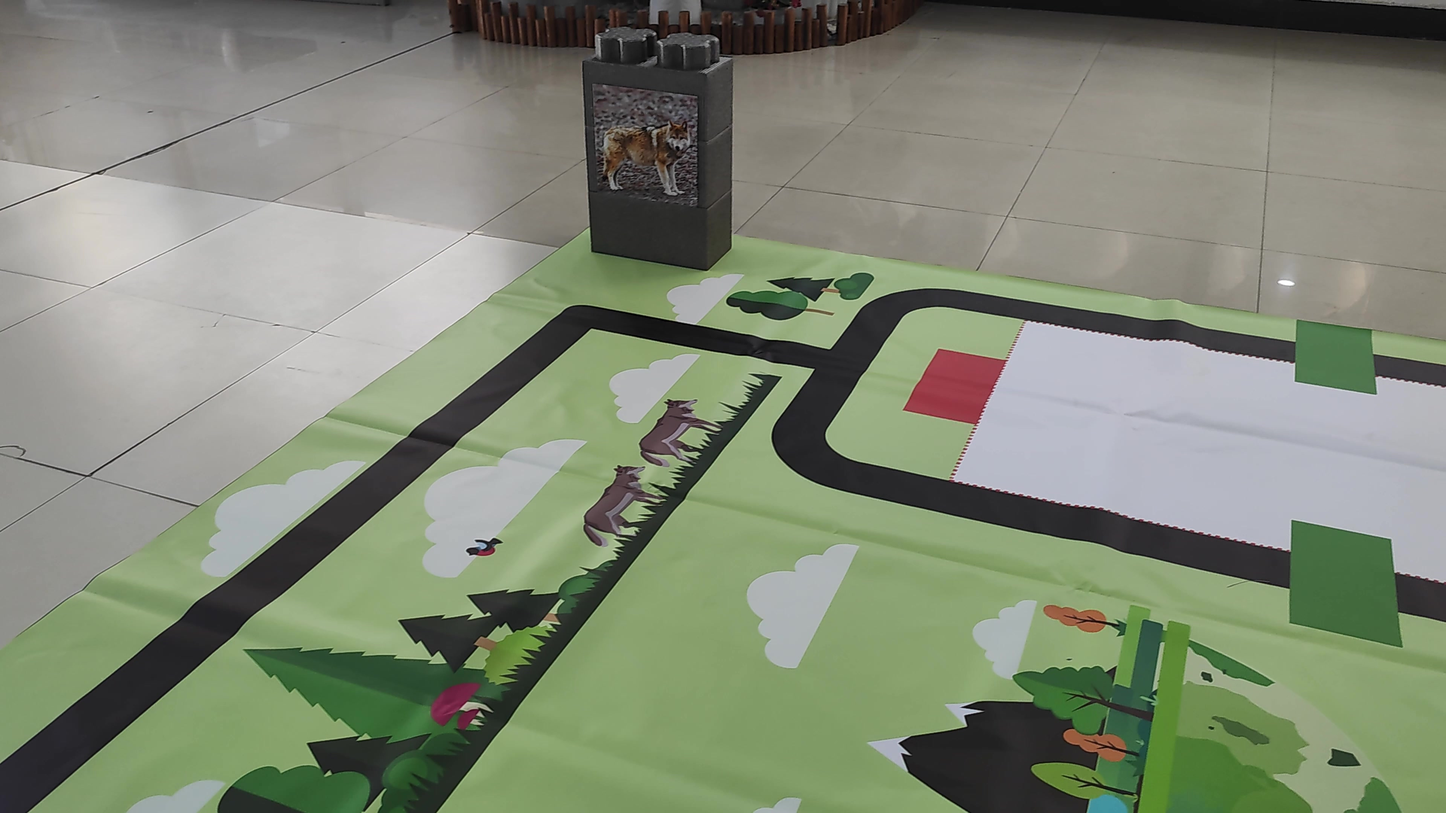wolf: (592, 104, 707, 204)
